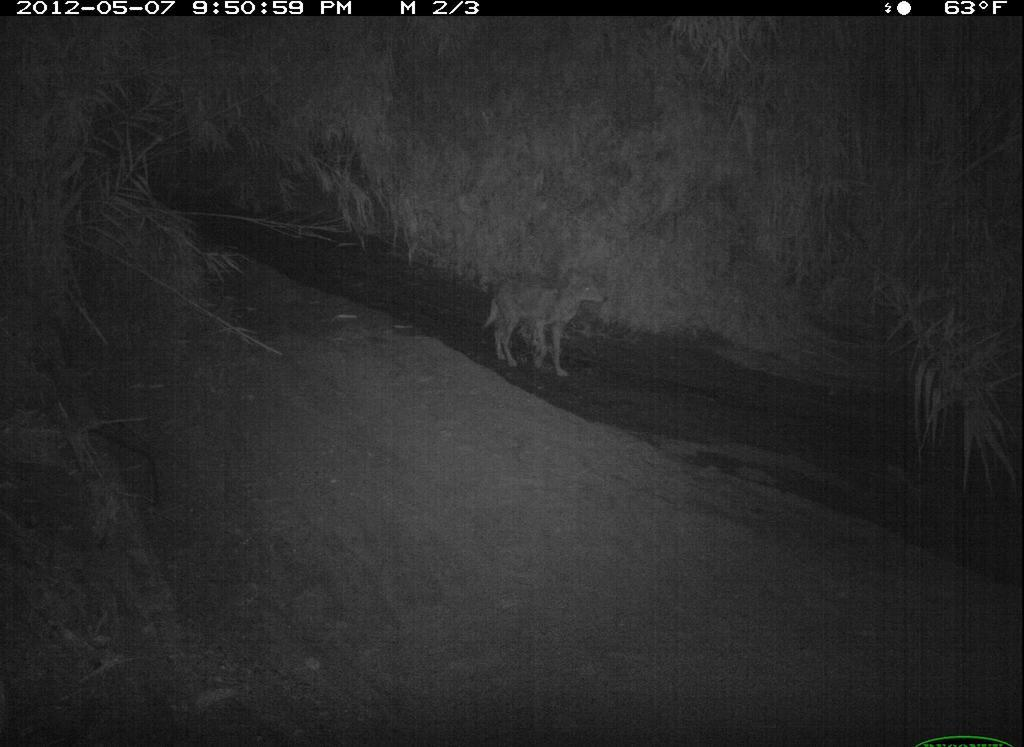coyote: (959, 533, 1024, 747)
